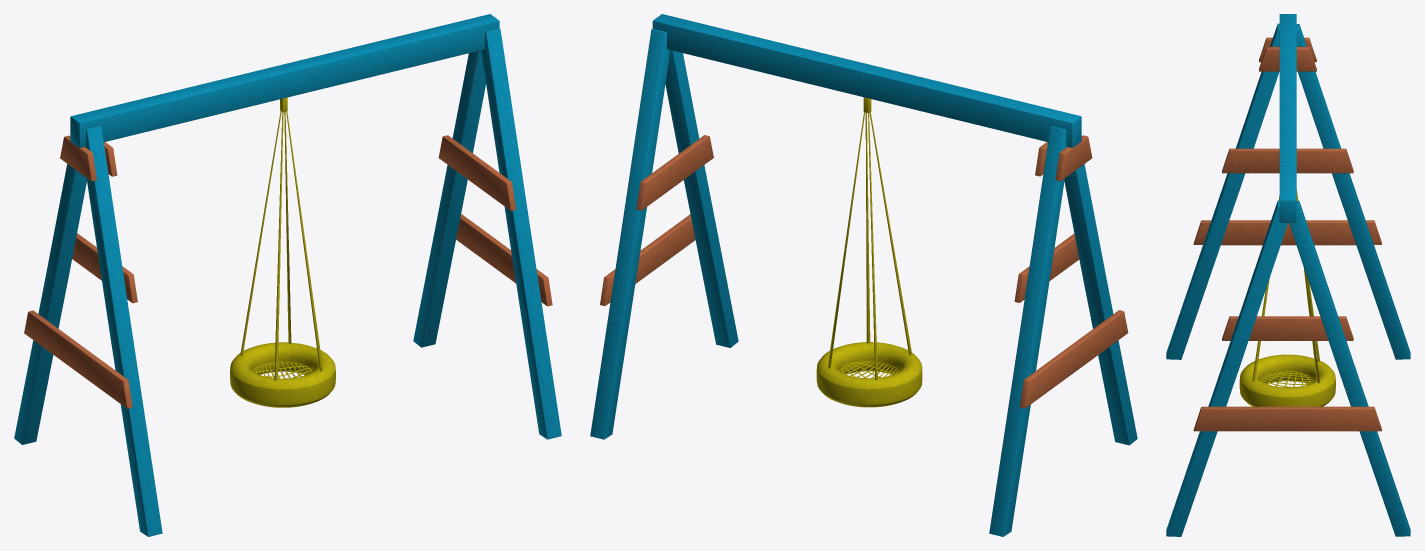
File: tireswing.glb
The picture shows the model from 3 angles, left to right: view 1: azimuth 30°, elevation 25°; view 2: azimuth 150°, elevation 25°; view 3: azimuth 270°, elevation 25°; orthographic projection. The views are drawn at different scales.
Visible parts, largest first — view 1: Frame.001; view 2: Frame.001; view 3: Frame.001.
Boxes of the visible parts, left/top/right/bottom form: Frame.001: left=14, top=14, right=561, bottom=536; Frame.001: left=590, top=14, right=1137, bottom=536; Frame.001: left=1166, top=14, right=1410, bottom=536.
Bounding box in the file's own units: 0.3033 × 0.2521 × 0.1657.
1 material, 1 textured.
